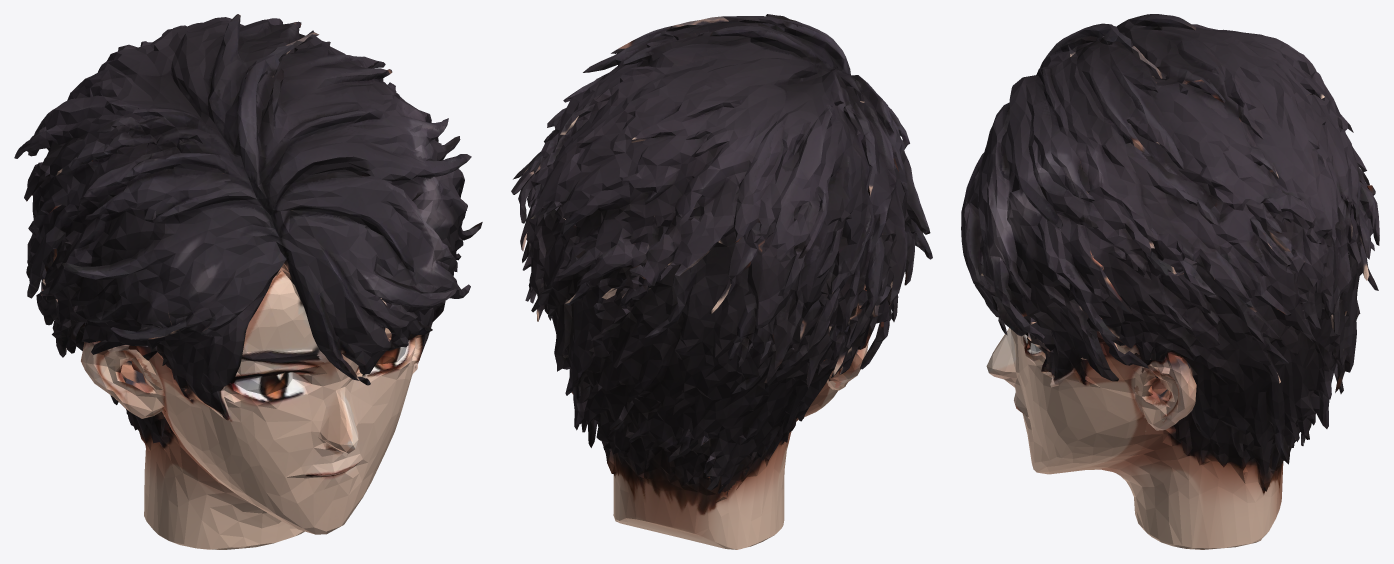
Rendered from side_acolyte_repaired_atlas.glb.
3 views of the same model, side by side, from view 1: azimuth 30°, elevation 25°; view 2: azimuth 150°, elevation 25°; view 3: azimuth 270°, elevation 25° (orthographic). The views are drawn at different scales.
Parts seen in each view (by area): view 1: temp_mesh.ply; view 2: temp_mesh.ply; view 3: temp_mesh.ply.
Boxes of the visible parts, <box> form: temp_mesh.ply: <box>14,14,482,549</box>; temp_mesh.ply: <box>511,14,932,549</box>; temp_mesh.ply: <box>961,14,1379,549</box>.
Bounding box in the file's own units: 1.2 × 1.43 × 1.11.
1 material, 1 textured.
